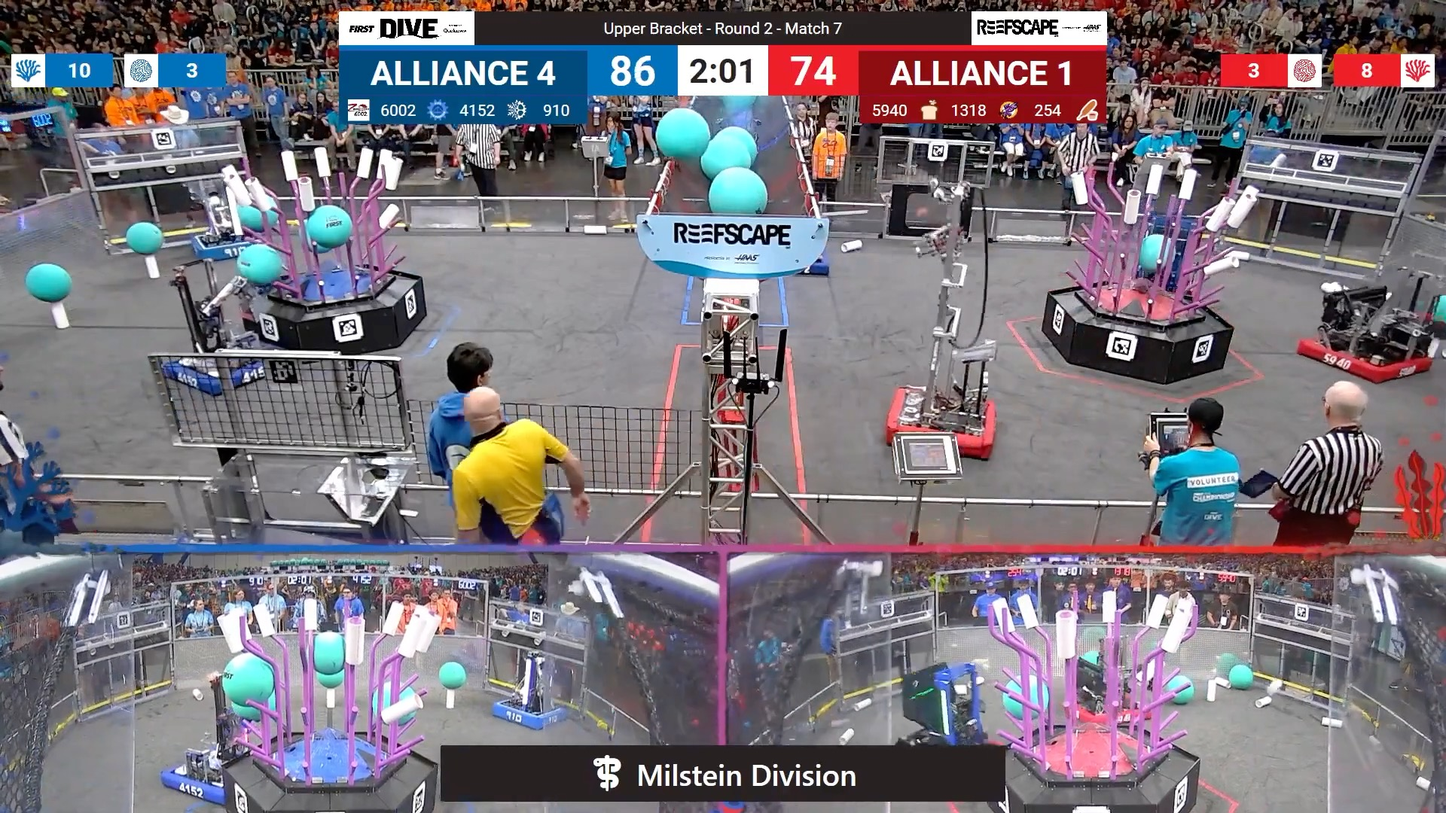bumpers: (1288, 325, 1437, 388), (880, 388, 1006, 461), (163, 345, 279, 395), (155, 746, 243, 805), (486, 698, 569, 734), (186, 238, 266, 266), (797, 257, 834, 278)
